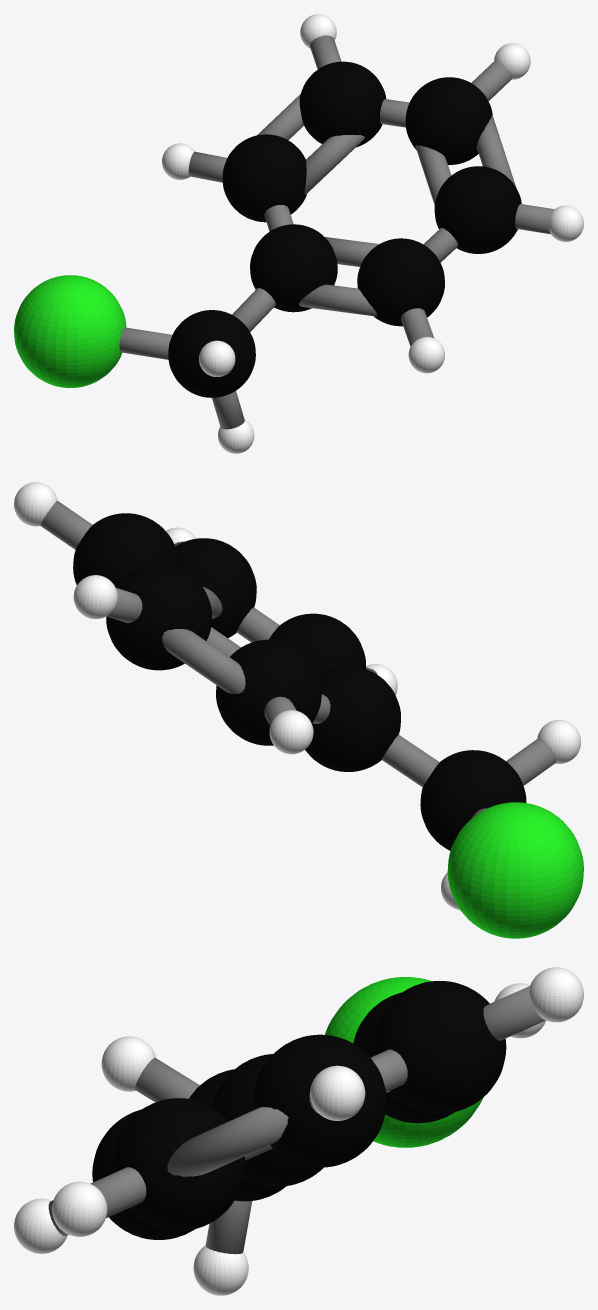
File: BENCILO.obj
3 renders of one model, top to bottom at view 1: azimuth 30°, elevation 25°; view 2: azimuth 150°, elevation 25°; view 3: azimuth 270°, elevation 25°, orthographic. The views are drawn at different scales.
Visible parts, largest first — view 1: Carbon_ball_Sphere.001, Chlorine_ball_Sphere.002, Hydrogen_ball_Sphere, Stick_Cylinder.006_Cylinder.006, Stick_Cylinder.012_Cylinder.012, Stick_Cylinder.004_Cylinder.004, Stick_Cylinder.010_Cylinder.010, Stick_Cylinder.016_Cylinder.016, Stick_Cylinder.003_Cylinder.003, Stick_Cylinder.017_Cylinder.017, Stick_Cylinder.015_Cylinder.015, Stick_Cylinder.002_Cylinder.002 (+7 smaller); view 2: Carbon_ball_Sphere.001, Chlorine_ball_Sphere.002, Hydrogen_ball_Sphere, Stick_Cylinder.017_Cylinder.017, Stick_Cylinder.003_Cylinder.003, Stick_Cylinder.008_Cylinder.008, Stick_Cylinder.005_Cylinder.005, Stick_Cylinder.011_Cylinder.011, Stick_Cylinder.013_Cylinder.013; view 3: Carbon_ball_Sphere.001, Hydrogen_ball_Sphere, Chlorine_ball_Sphere.002, Stick_Cylinder.010_Cylinder.010, Stick_Cylinder.013_Cylinder.013, Stick_Cylinder.005_Cylinder.005, Stick_Cylinder.001_Cylinder.001, Stick_Cylinder.002_Cylinder.002, Stick_Cylinder.009_Cylinder.009.
Boxes of the visible parts, bbox=[...] form: Carbon_ball_Sphere.001: bbox=[168, 61, 521, 397]; Chlorine_ball_Sphere.002: bbox=[14, 275, 126, 387]; Hydrogen_ball_Sphere: bbox=[162, 14, 583, 453]; Stick_Cylinder.006_Cylinder.006: bbox=[299, 284, 377, 316]; Stick_Cylinder.012_Cylinder.012: bbox=[304, 135, 364, 194]; Stick_Cylinder.004_Cylinder.004: bbox=[119, 327, 172, 359]; Stick_Cylinder.010_Cylinder.010: bbox=[476, 115, 516, 187]; Stick_Cylinder.016_Cylinder.016: bbox=[415, 145, 451, 204]; Stick_Cylinder.003_Cylinder.003: bbox=[232, 287, 275, 331]; Stick_Cylinder.017_Cylinder.017: bbox=[257, 94, 303, 140]; Stick_Cylinder.015_Cylinder.015: bbox=[325, 237, 378, 266]; Stick_Cylinder.002_Cylinder.002: bbox=[515, 204, 554, 234]; Carbon_ball_Sphere.001: bbox=[73, 513, 526, 850]; Chlorine_ball_Sphere.002: bbox=[447, 802, 583, 938]; Hydrogen_ball_Sphere: bbox=[14, 482, 580, 909]; Stick_Cylinder.017_Cylinder.017: bbox=[162, 629, 245, 693]; Stick_Cylinder.003_Cylinder.003: bbox=[381, 734, 439, 787]; Stick_Cylinder.008_Cylinder.008: bbox=[40, 500, 92, 549]; Stick_Cylinder.005_Cylinder.005: bbox=[506, 738, 556, 785]; Stick_Cylinder.011_Cylinder.011: bbox=[236, 607, 279, 642]; Stick_Cylinder.013_Cylinder.013: bbox=[106, 588, 142, 622]; Carbon_ball_Sphere.001: bbox=[92, 981, 506, 1239]; Hydrogen_ball_Sphere: bbox=[14, 967, 583, 1295]; Chlorine_ball_Sphere.002: bbox=[325, 977, 483, 1147]; Stick_Cylinder.010_Cylinder.010: bbox=[167, 1107, 288, 1176]; Stick_Cylinder.013_Cylinder.013: bbox=[483, 986, 545, 1040]; Stick_Cylinder.005_Cylinder.005: bbox=[135, 1057, 199, 1102]; Stick_Cylinder.001_Cylinder.001: bbox=[205, 1200, 252, 1254]; Stick_Cylinder.002_Cylinder.002: bbox=[90, 1167, 146, 1217]; Stick_Cylinder.009_Cylinder.009: bbox=[371, 1049, 407, 1092].
Bounding box in the file's own units: 8.82 × 5.36 × 5.94.
